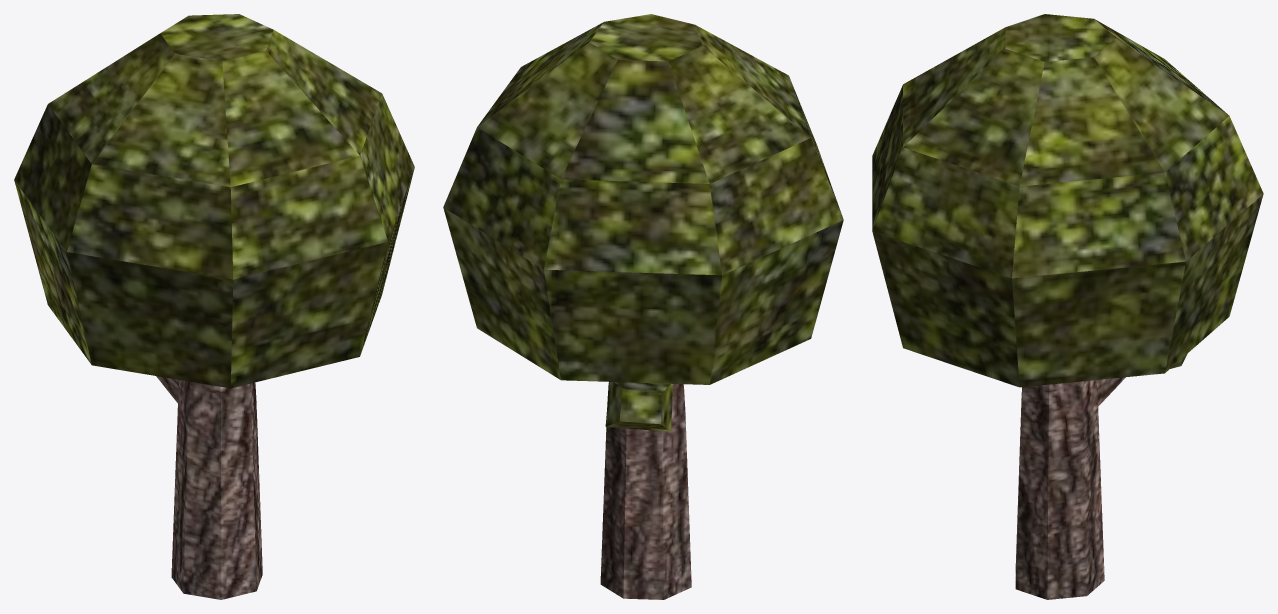
The model's file is Tree.fbx.
3 views of the same model, side by side, from view 1: azimuth 30°, elevation 25°; view 2: azimuth 150°, elevation 25°; view 3: azimuth 270°, elevation 25° (orthographic).
Parts seen in each view (by area): view 1: Cylinder; view 2: Cylinder; view 3: Cylinder.
Boxes of the visible parts, x1,y1,x2,y2 form: Cylinder: [14, 14, 414, 599]; Cylinder: [443, 14, 843, 599]; Cylinder: [872, 14, 1263, 599].
Bounding box in the file's own units: 314 × 469 × 307.
